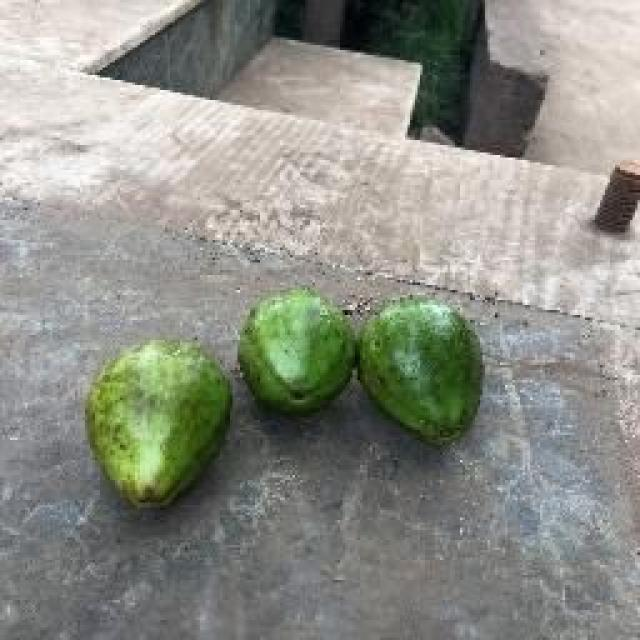Good_Guava: (238, 290, 358, 418)
